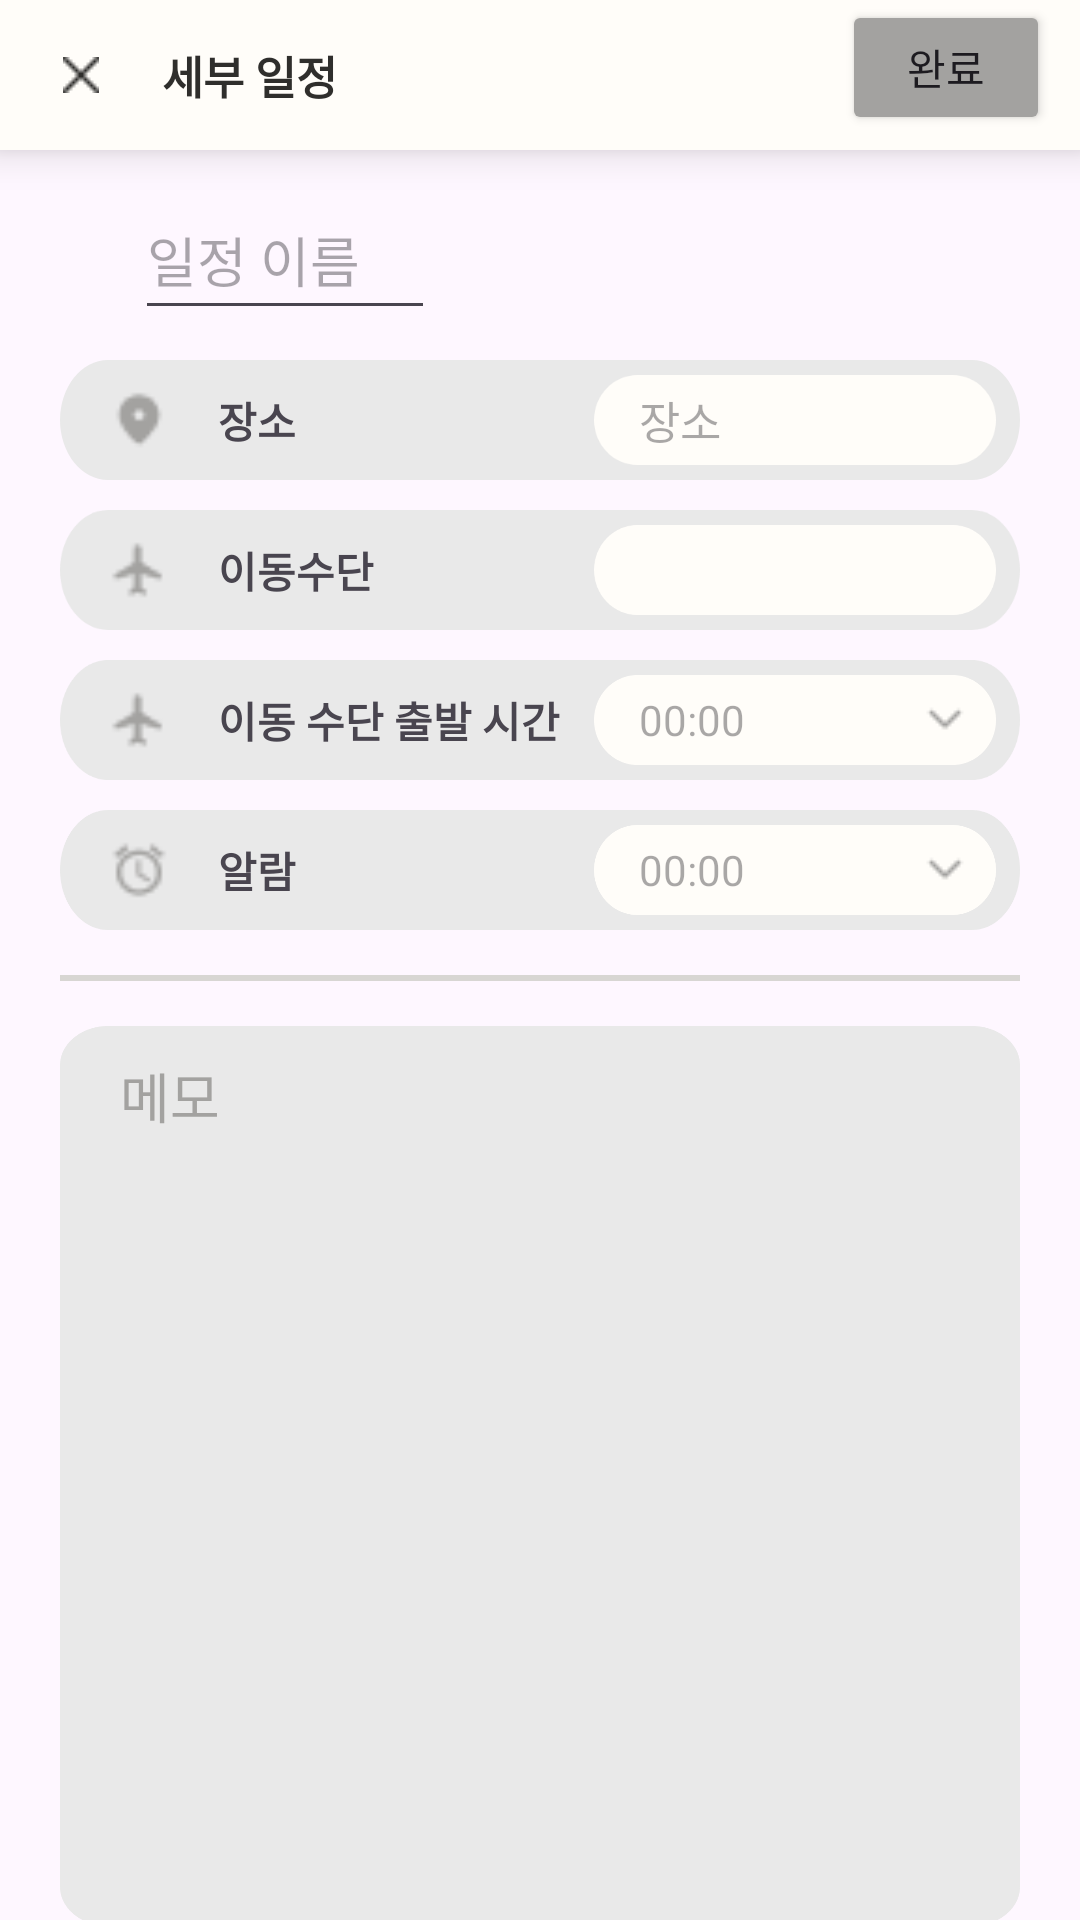

Icons on this 1080x1920 Android screen, each with the point to tap as point (x, y):
alarm: point (139, 870)
flight: point (137, 570), point (137, 720)
place: point (139, 419)
